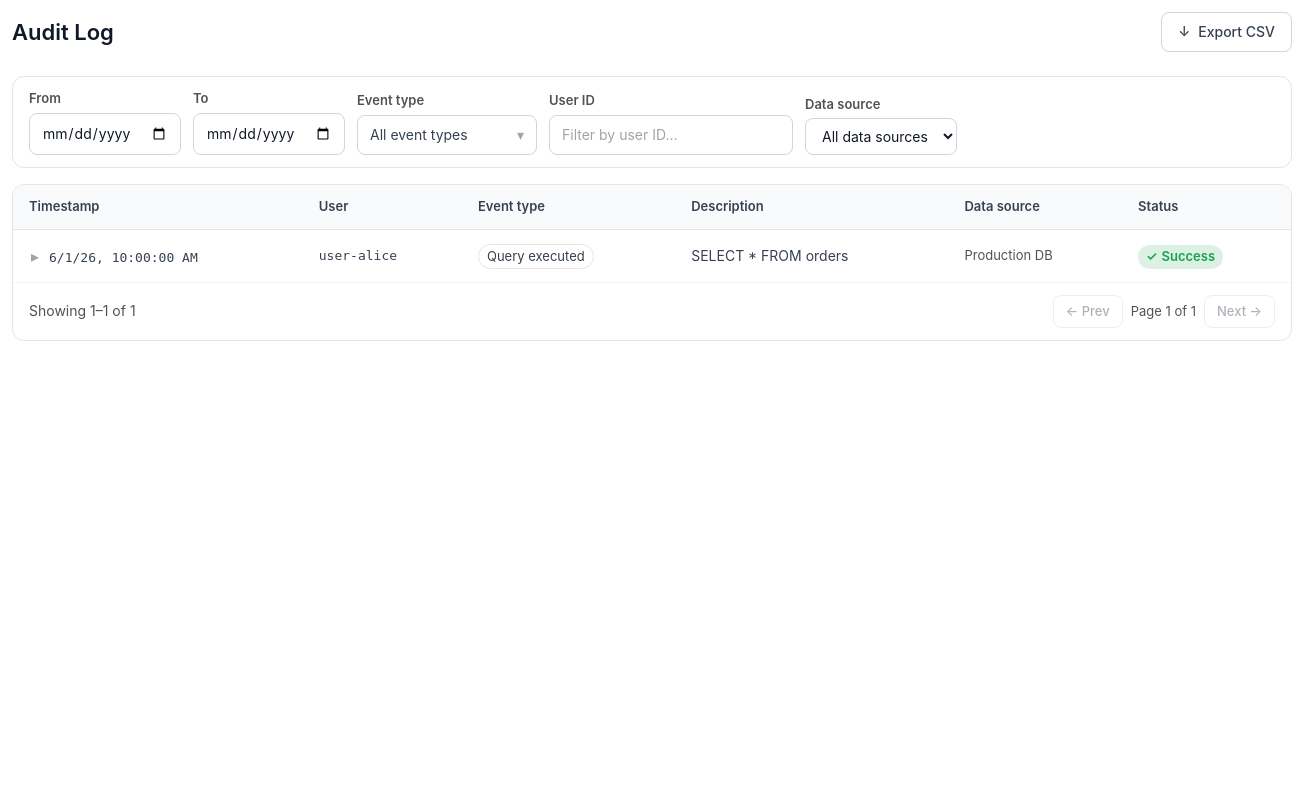
it: AuditLogPage — row expansion detail panel › opens detail panel on expand button click
The width and height of the screenshot is (1304, 812).
Expected: the table is shown, [13,185,1291,283]
Click the button named "Expand event evt-1".
click(35, 256)  # box [29,242,41,270]
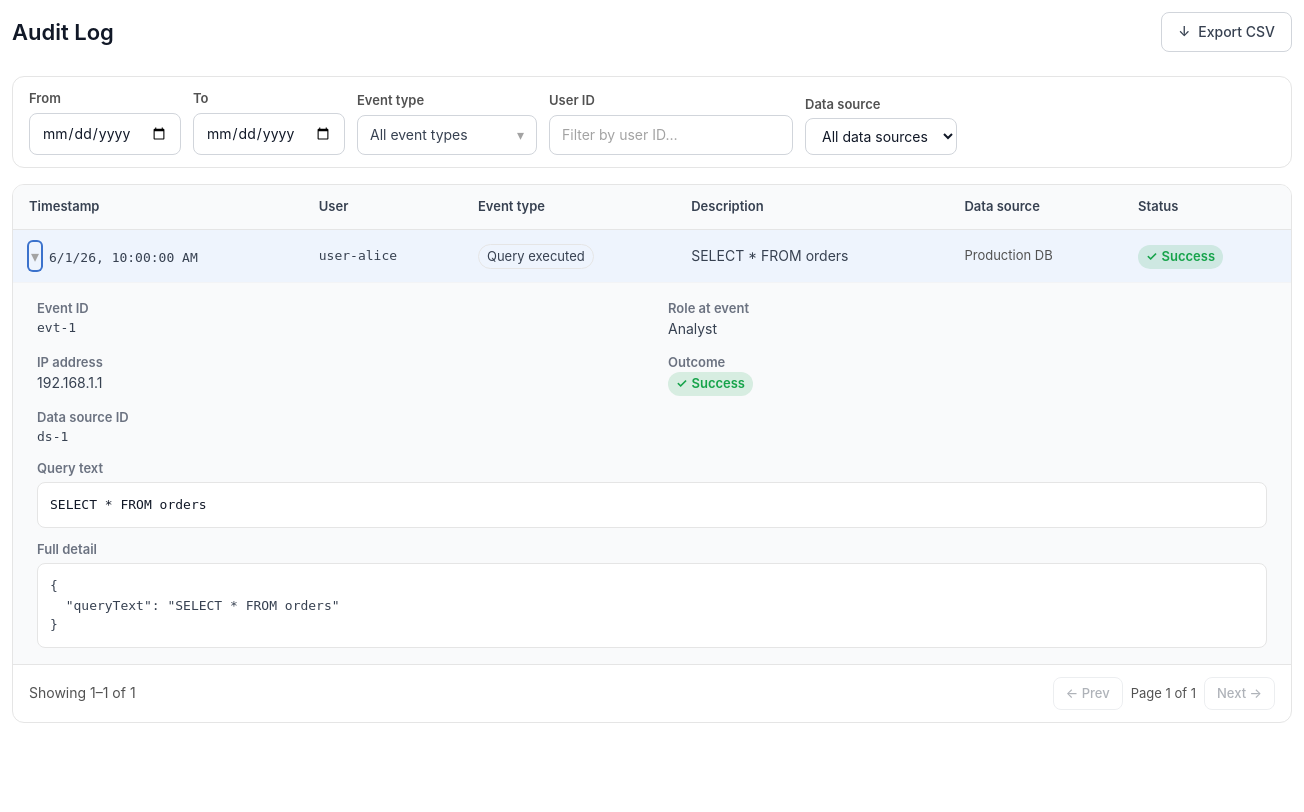
Result: the text "Role at event" is shown at [668,300,749,316]
Result: the text "Analyst" is shown at [668,320,717,337]
